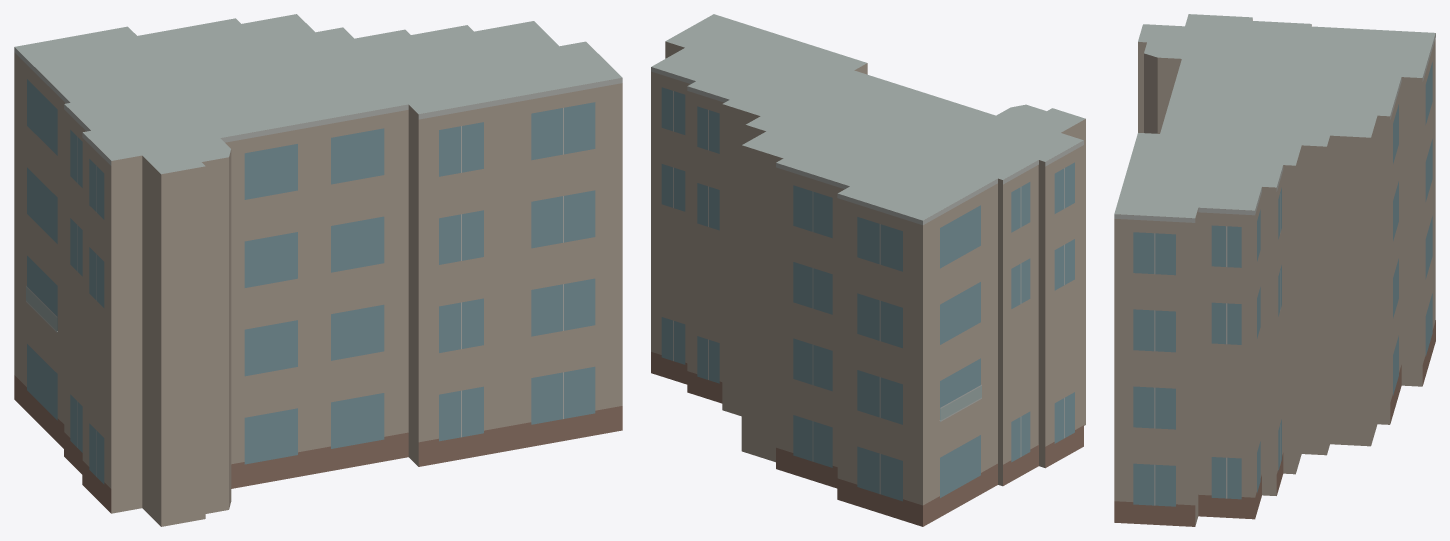
File: survey-upis-32790481.glb
3 views of the same model, side by side, from view 1: azimuth 30°, elevation 25°; view 2: azimuth 150°, elevation 25°; view 3: azimuth 270°, elevation 25° (orthographic). The views are drawn at different scales.
Visible parts, largest first — view 1: survey-upis-32790481.tmp; view 2: survey-upis-32790481.tmp; view 3: survey-upis-32790481.tmp.
Boxes of the visible parts, x1,y1,x2,y2 form: survey-upis-32790481.tmp: (14,14,622,526); survey-upis-32790481.tmp: (651,14,1085,526); survey-upis-32790481.tmp: (1114,14,1435,526).
Bounding box in the file's own units: 22.85 × 16.09 × 15.2.
